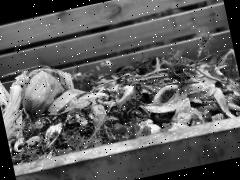organic: (15, 58, 80, 115), (138, 73, 204, 124)
